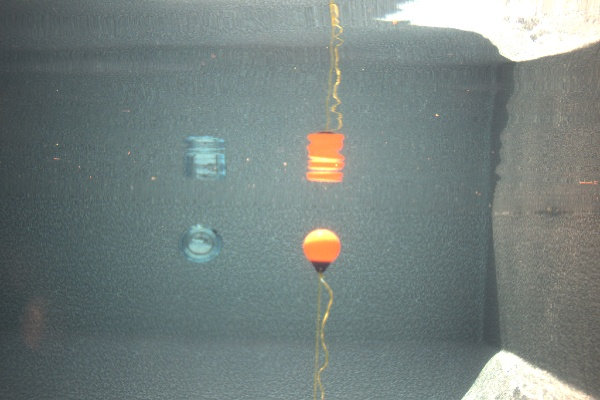buoy: (303, 228, 341, 274)
